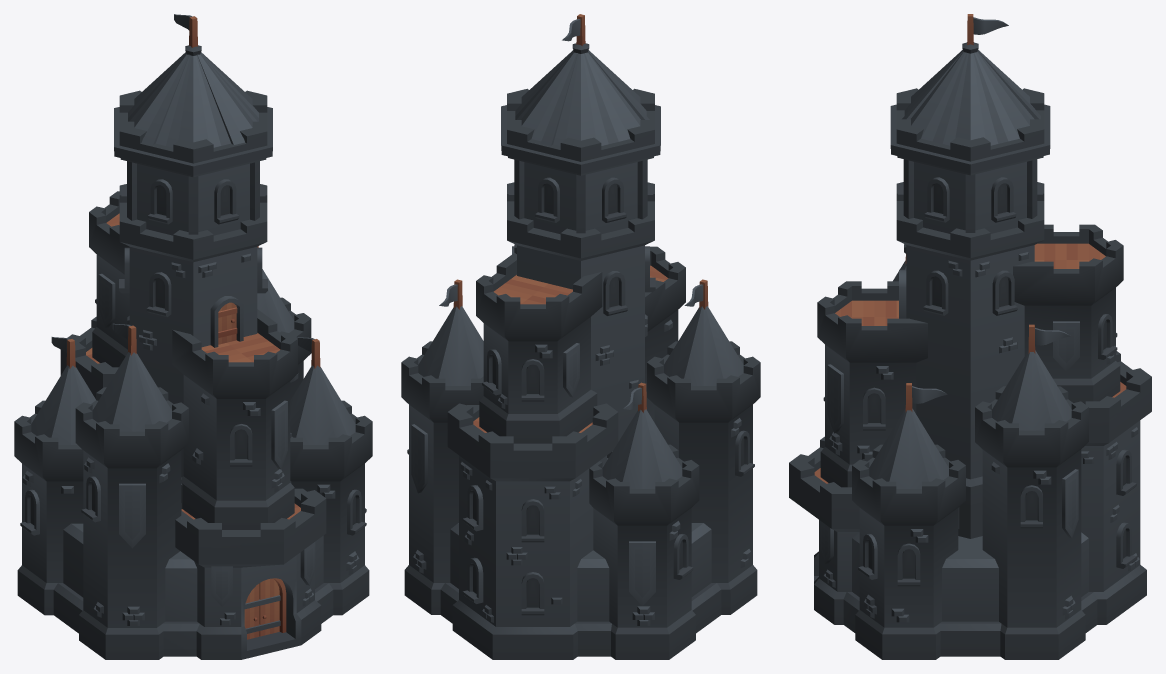
File: castle-dwarf.glb
3 views of the same model, side by side, from view 1: azimuth 30°, elevation 25°; view 2: azimuth 150°, elevation 25°; view 3: azimuth 270°, elevation 25° (orthographic).
Visible parts, largest first — view 1: castle-dwarf; view 2: castle-dwarf; view 3: castle-dwarf.
Boxes of the visible parts, x1,y1,x2,y2 form: castle-dwarf: [14, 14, 372, 659]; castle-dwarf: [401, 14, 760, 659]; castle-dwarf: [789, 14, 1151, 659].
Bounding box in the file's own units: 1.98 × 3.98 × 2.26.
